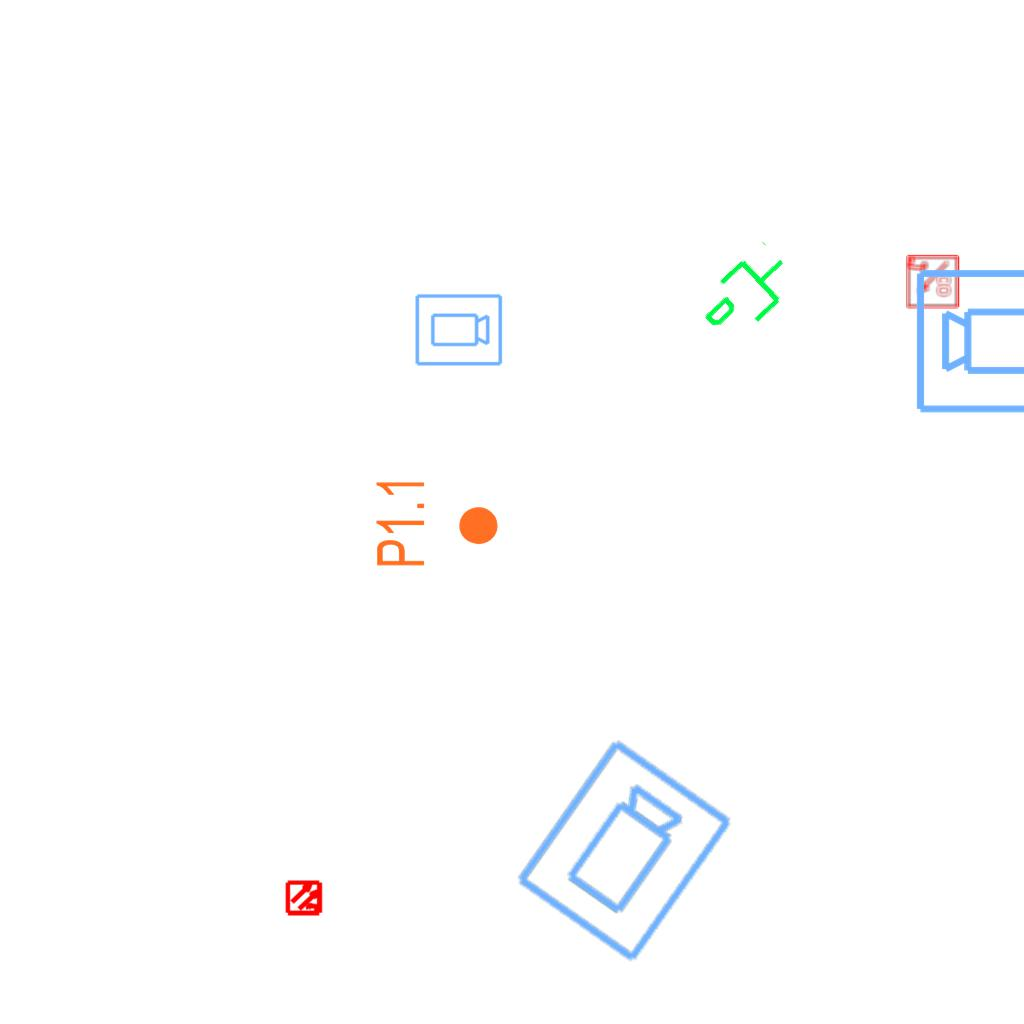Datenanschluss_einfach: (688, 235, 809, 355)
Downlight_LED_Einbauleuchten_Flur: (373, 476, 501, 569)
KFO_Kamera_mit_Festobjektiv: (509, 733, 741, 971), (913, 263, 1024, 417), (413, 292, 504, 369)
OT_Multisensormelder_(Kombination_RMO_WMD): (277, 870, 333, 926)
ROA_Rauchmelder_optisch_mit_Signalgeber_(Sockelsirene): (904, 254, 960, 310)
